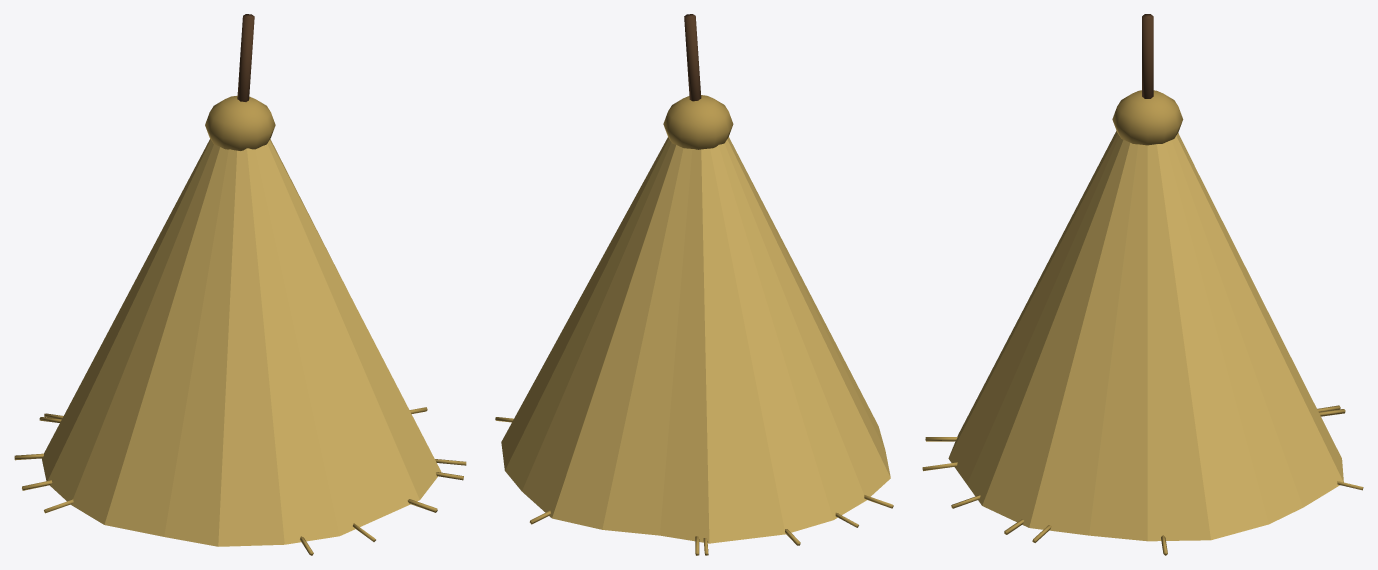
The model's file is heuhaufen.glb.
3 views of the same model, side by side, from view 1: azimuth 30°, elevation 25°; view 2: azimuth 150°, elevation 25°; view 3: azimuth 270°, elevation 25° (orthographic).
Parts seen in each view (by area): view 1: Cone; view 2: Cone; view 3: Cone.
Part boxes in pixels (x1,y1,x2,y2): Cone: (14, 14, 466, 555); Cone: (495, 14, 893, 555); Cone: (922, 14, 1363, 555).
Bounding box in the file's own units: 2.3 × 2.51 × 2.24.
